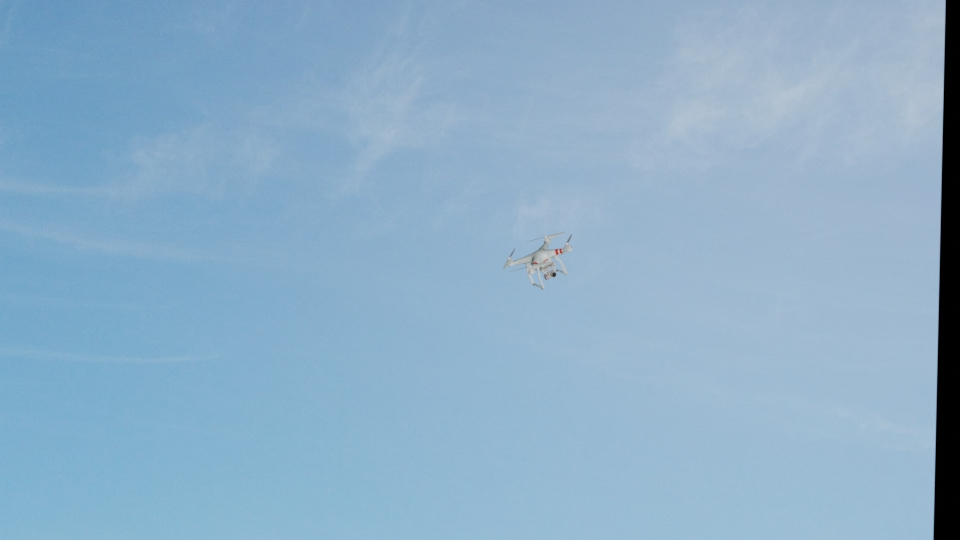drone: (504, 228, 573, 291)
